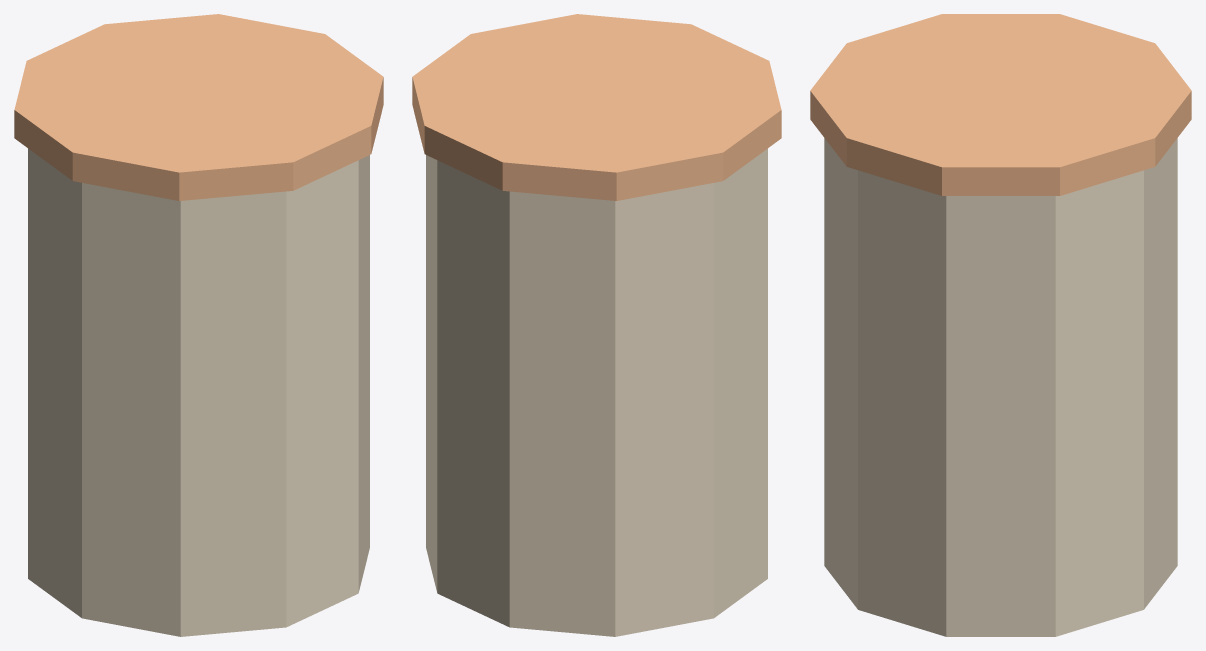
3 views of the same model, side by side, from view 1: azimuth 30°, elevation 25°; view 2: azimuth 150°, elevation 25°; view 3: azimuth 270°, elevation 25° (orthographic).
Parts seen in each view (by area): view 1: Feed bin, Lid; view 2: Feed bin, Lid; view 3: Feed bin, Lid.
Part boxes in pixels (x1=…): Feed bin: x1=28, y1=148, x2=369, y2=636; Lid: x1=14, y1=14, x2=383, y2=200; Feed bin: x1=426, y1=148, x2=767, y2=636; Lid: x1=412, y1=14, x2=781, y2=200; Feed bin: x1=824, y1=138, x2=1177, y2=636; Lid: x1=810, y1=14, x2=1191, y2=195.
Size of the model in its own units: 51.36 by 74.25 by 54.
